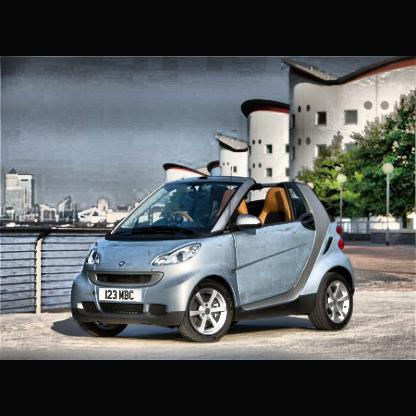smart fortwo Convertible 2012: (71, 177, 357, 344)
